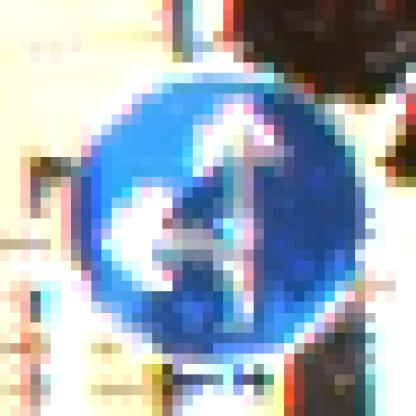Straight or Left: (62, 53, 366, 365)
